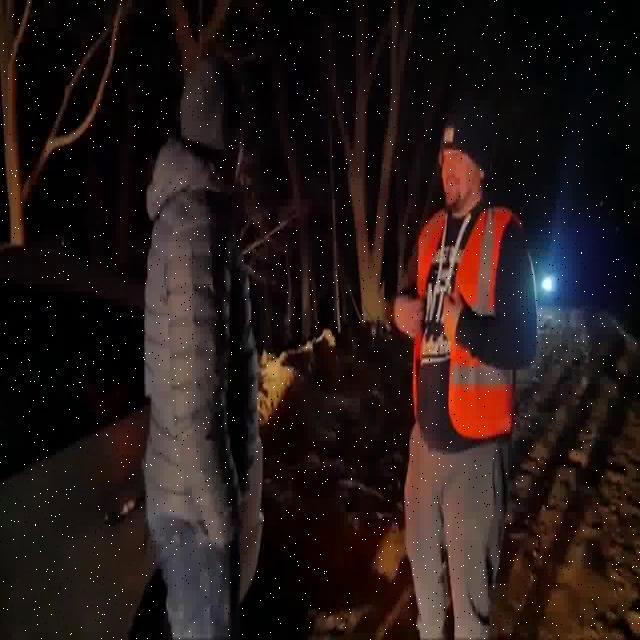Vest: (413, 206, 526, 444)
